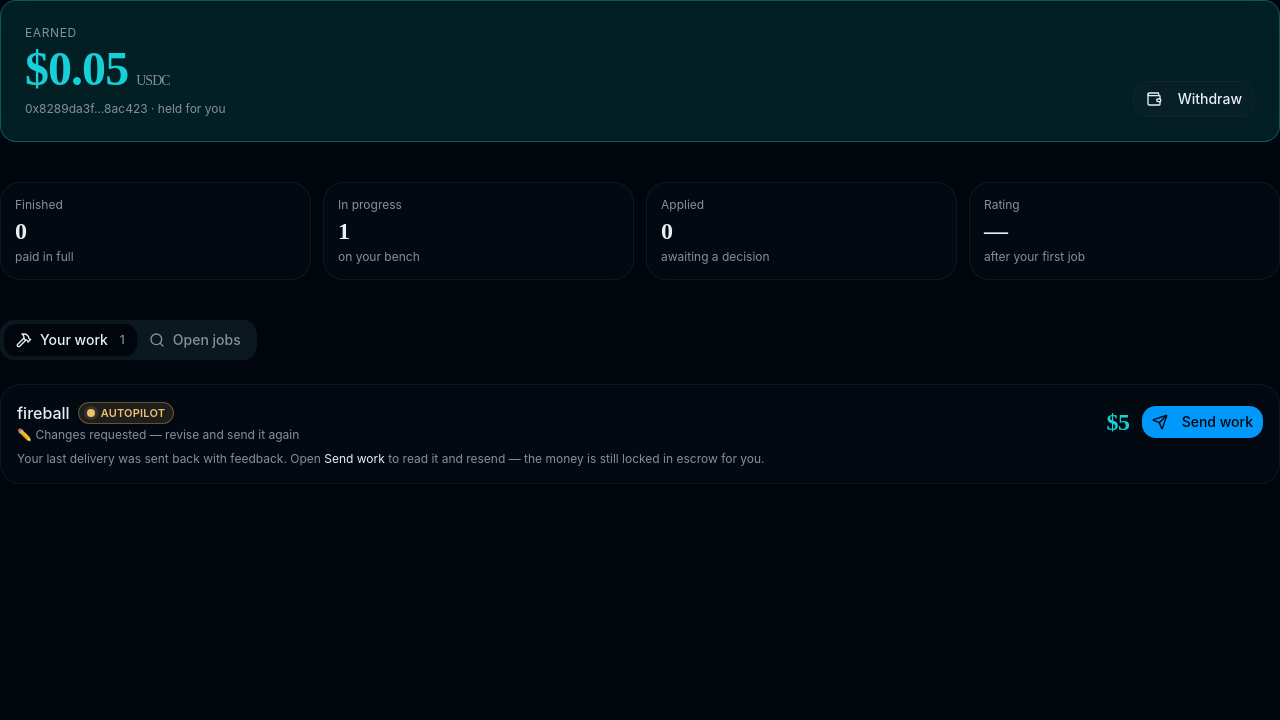
what the reviewer actually decided › marks each criterion pass or fail, with the reviewer's note
Click the button "Send work".
click(1202, 422)  # box [1142,406,1263,438]
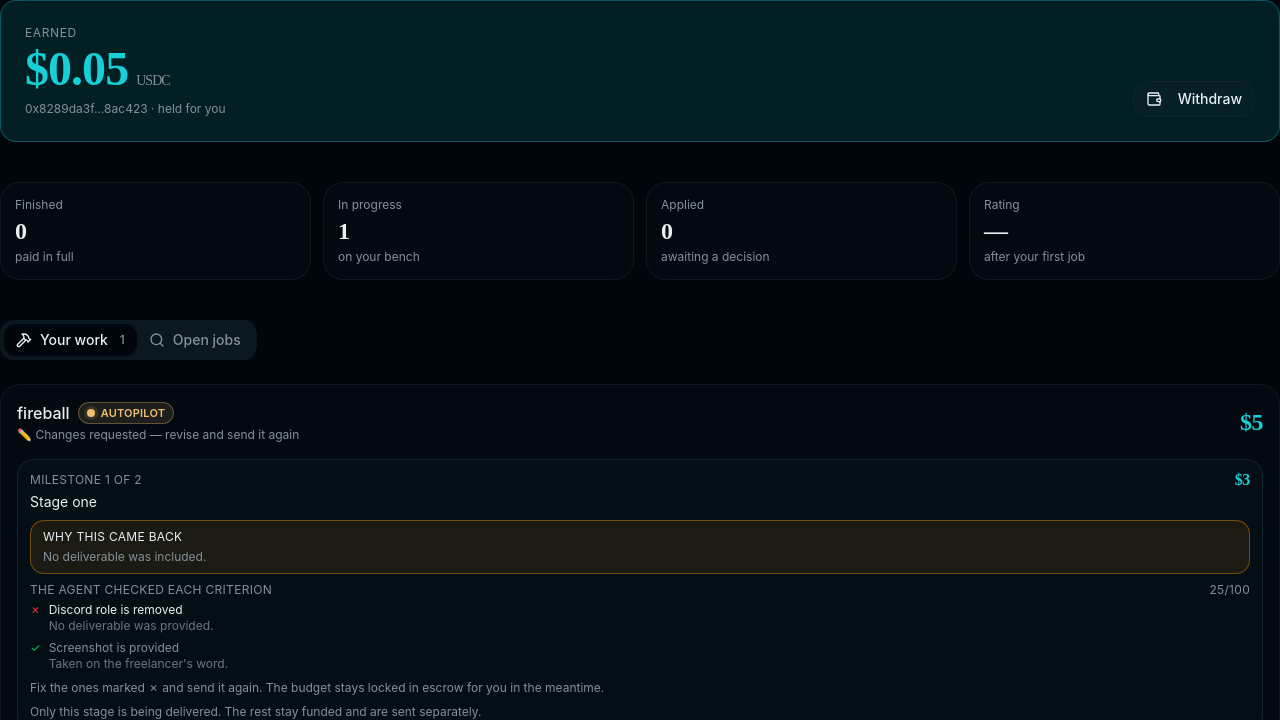
Expected: the text "The agent checked each criterion" is shown, [30,582,272,598]
Expected: the text "Discord role is removed" is shown, [49,602,183,617]
Expected: the text "No deliverable was provided." is shown, [49,618,214,634]
